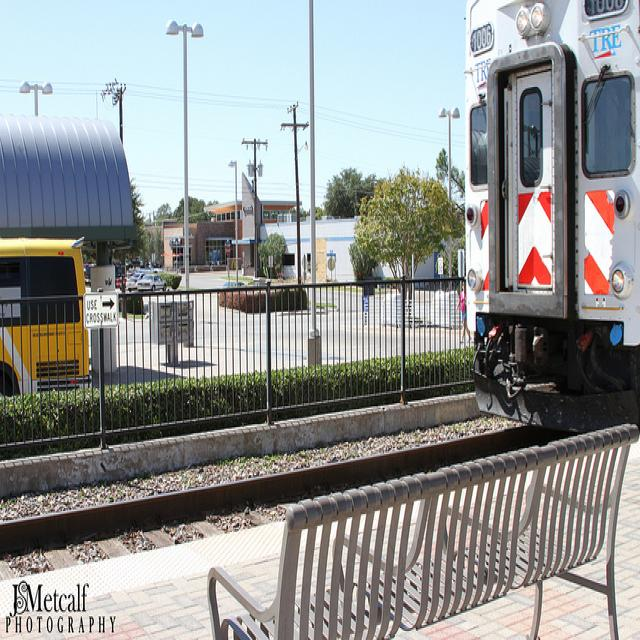Vehicle: (2, 242, 92, 391), (135, 274, 168, 293), (125, 272, 144, 292)
